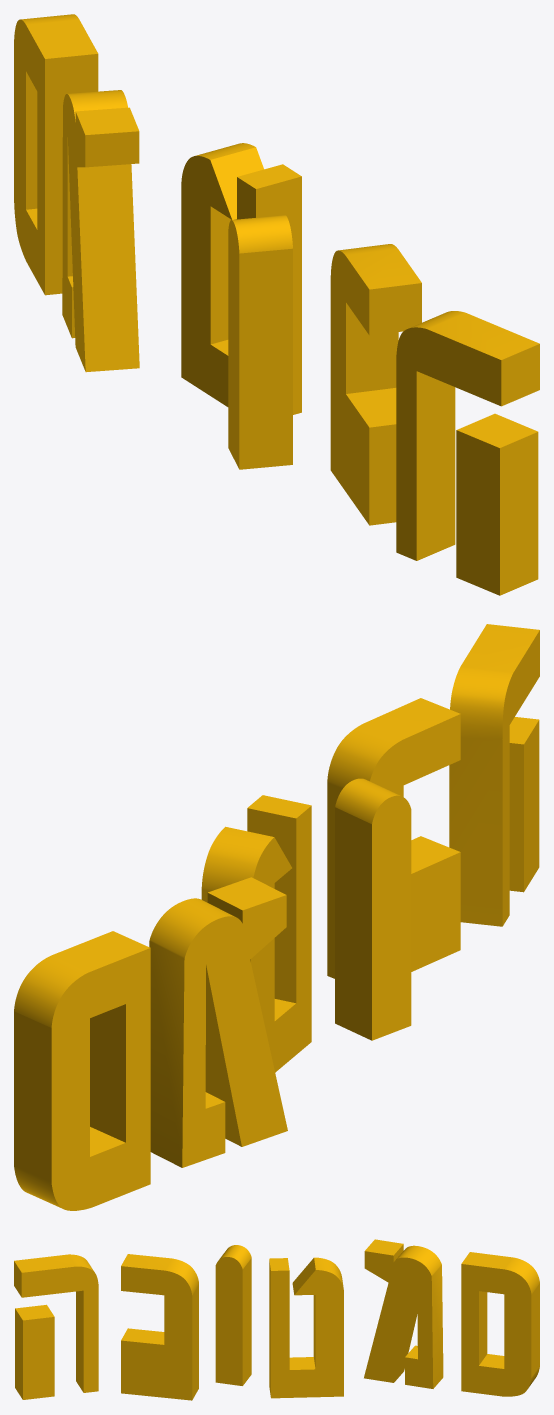
File: 13_title.gltf
3 renders of one model, top to bottom at view 1: azimuth 30°, elevation 25°; view 2: azimuth 150°, elevation 25°; view 3: azimuth 270°, elevation 25°, orthographic. The views are drawn at different scales.
Visible parts, largest first — view 1: Cap 1 (×6), כתום, כתום.4, כתום.2, כתום.1, כתום.5, כתום.3; view 2: Cap 1 (×6), כתום, כתום.5, כתום.4, כתום.2, כתום.3, כתום.1; view 3: Cap 2 (×6), כתום.4, כתום, כתום.5, כתום.1, כתום.3, כתום.2.
Boxes of the visible parts, x1,y1,x2,y2 form: Cap 1 (×6): (14,19,501,595); כתום: (409,311,539,595); כתום.4: (67,90,139,372); כתום.2: (232,215,292,469); כתום.1: (339,244,421,525); כתום.5: (21,14,98,295); כתום.3: (195,143,301,414); Cap 1 (×6): (51,630,539,1210); כתום: (449,624,539,926); כתום.5: (14,931,150,1208); כתום.4: (149,877,285,1167); כתום.2: (335,778,400,1040); כתום.3: (201,795,311,1020); כתום.1: (327,698,460,978); Cap 2 (×6): (21,1251,531,1400); כתום.4: (365,1239,443,1388); כתום: (14,1254,93,1399); כתום.5: (461,1252,539,1388); כתום.1: (121,1254,198,1399); כתום.3: (269,1257,343,1396); כתום.2: (219,1245,251,1385).
Bounding box in the file's own units: 544 × 950 × 3555.
